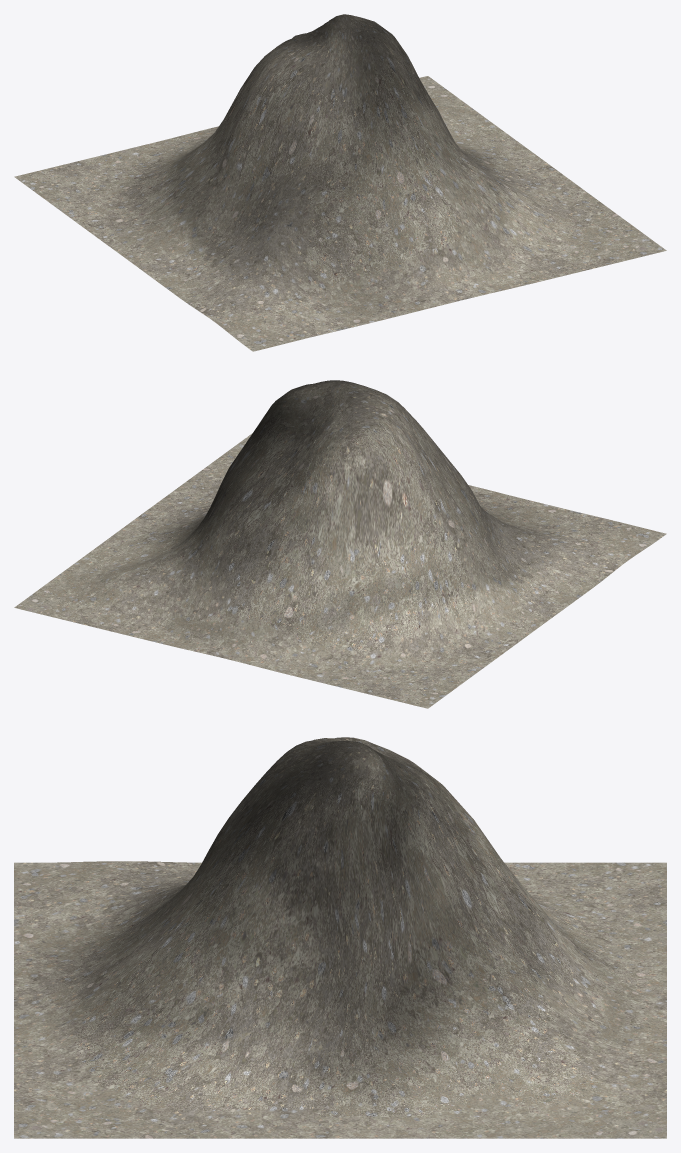
File: Dirtpile_3.fbx
3 renders of one model, top to bottom at view 1: azimuth 30°, elevation 25°; view 2: azimuth 150°, elevation 25°; view 3: azimuth 270°, elevation 25°, orthographic. The views are drawn at different scales.
Parts seen in each view (by area): view 1: pPlane1; view 2: pPlane1; view 3: pPlane1.
Boxes of the visible parts, box(x1,y1,x2,y2) form: pPlane1: box(14, 14, 666, 351); pPlane1: box(14, 380, 666, 708); pPlane1: box(14, 737, 666, 1138).
Bounding box in the file's own units: 23.53 × 10.37 × 23.53.
